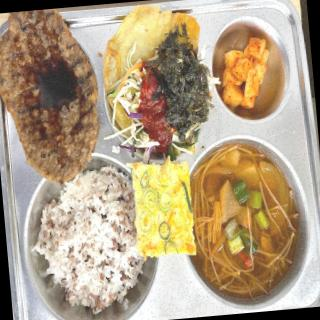Nasi: (36, 176, 144, 320)
